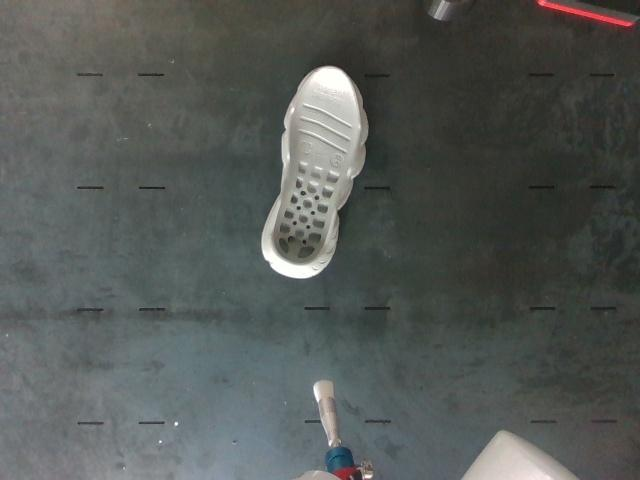shoes: (274, 67, 360, 265)
